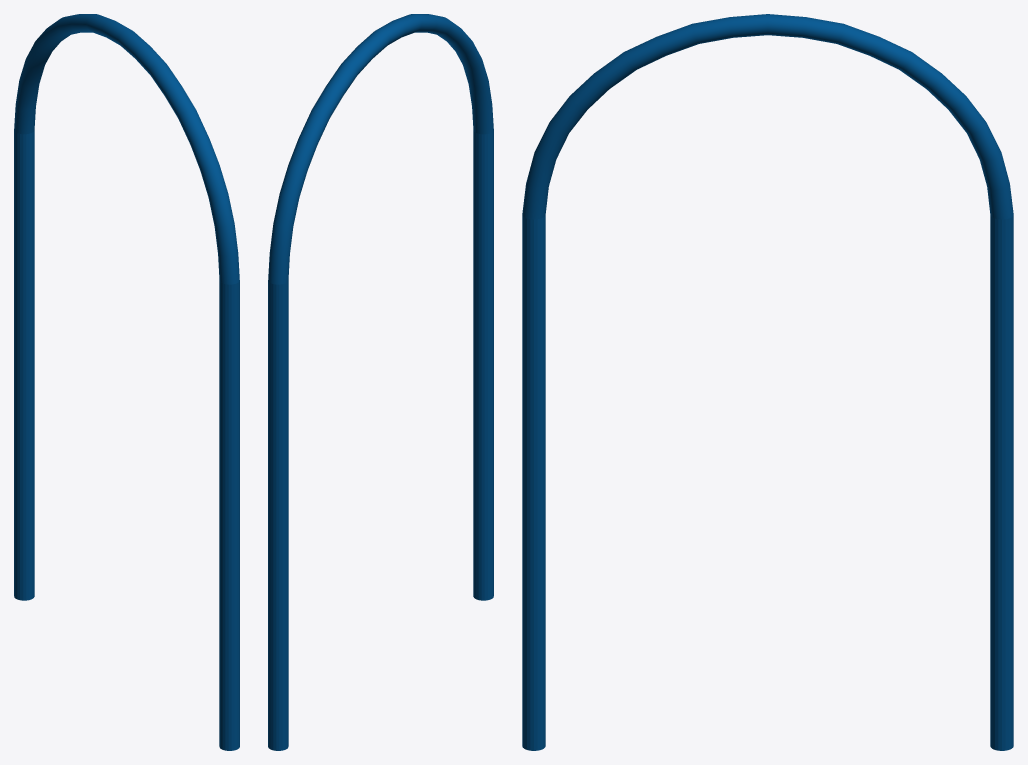
The model's file is Croquet_Door.fbx.
3 renders of one model, left to right at view 1: azimuth 30°, elevation 25°; view 2: azimuth 150°, elevation 25°; view 3: azimuth 270°, elevation 25°, orthographic. The views are drawn at different scales.
Parts seen in each view (by area): view 1: Croquet_Door; view 2: Croquet_Door; view 3: Croquet_Door.
Part boxes in pixels (x1,y1,x2,y2): Croquet_Door: (14,14,239,750); Croquet_Door: (268,14,493,750); Croquet_Door: (522,14,1013,750).
Size of the model in its own units: 6.02 by 207 by 126.
